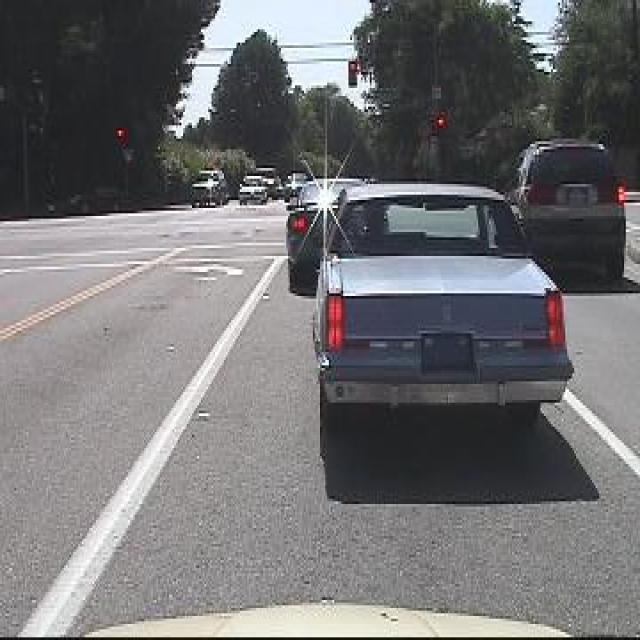car_back: (319, 186, 573, 450), (513, 125, 635, 290)
